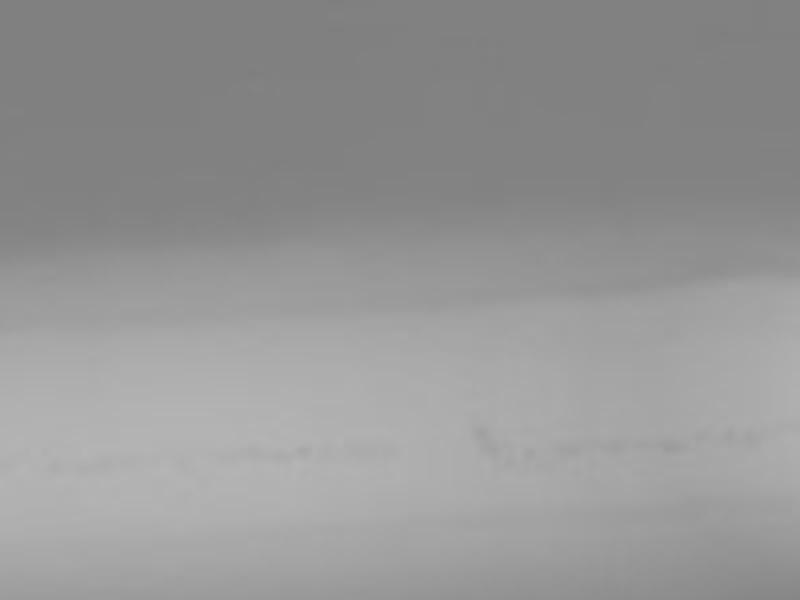defect: (471, 425, 501, 458), (242, 442, 285, 463), (598, 434, 630, 458), (657, 434, 685, 457), (558, 439, 580, 460), (292, 441, 312, 463), (493, 452, 513, 473), (736, 432, 758, 451), (518, 444, 536, 464), (720, 425, 734, 442)
